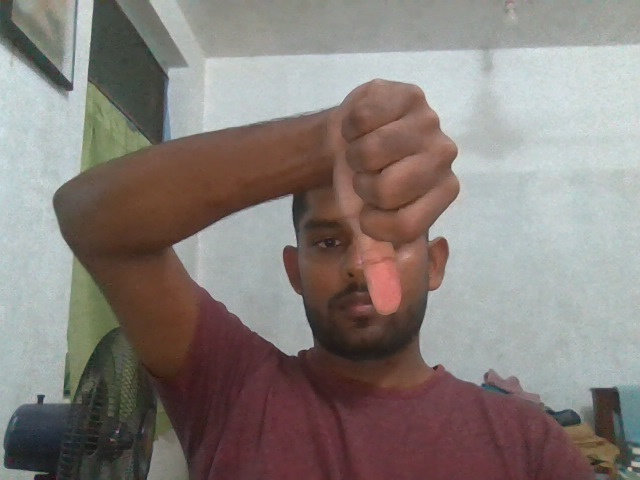dontlike: (300, 71, 476, 329)
